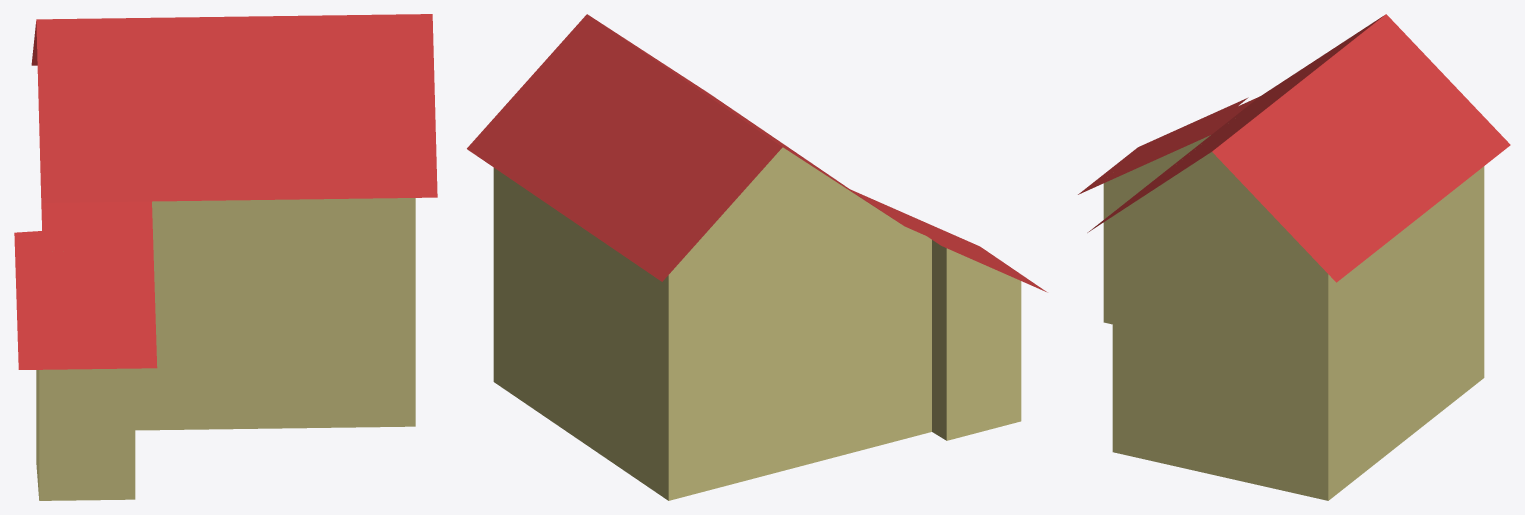
The picture shows the model from 3 angles, left to right: view 1: azimuth 30°, elevation 25°; view 2: azimuth 150°, elevation 25°; view 3: azimuth 270°, elevation 25°; orthographic projection. The views are drawn at different scales.
Size of the model in its own units: 21.09 by 16.49 by 13.94.
